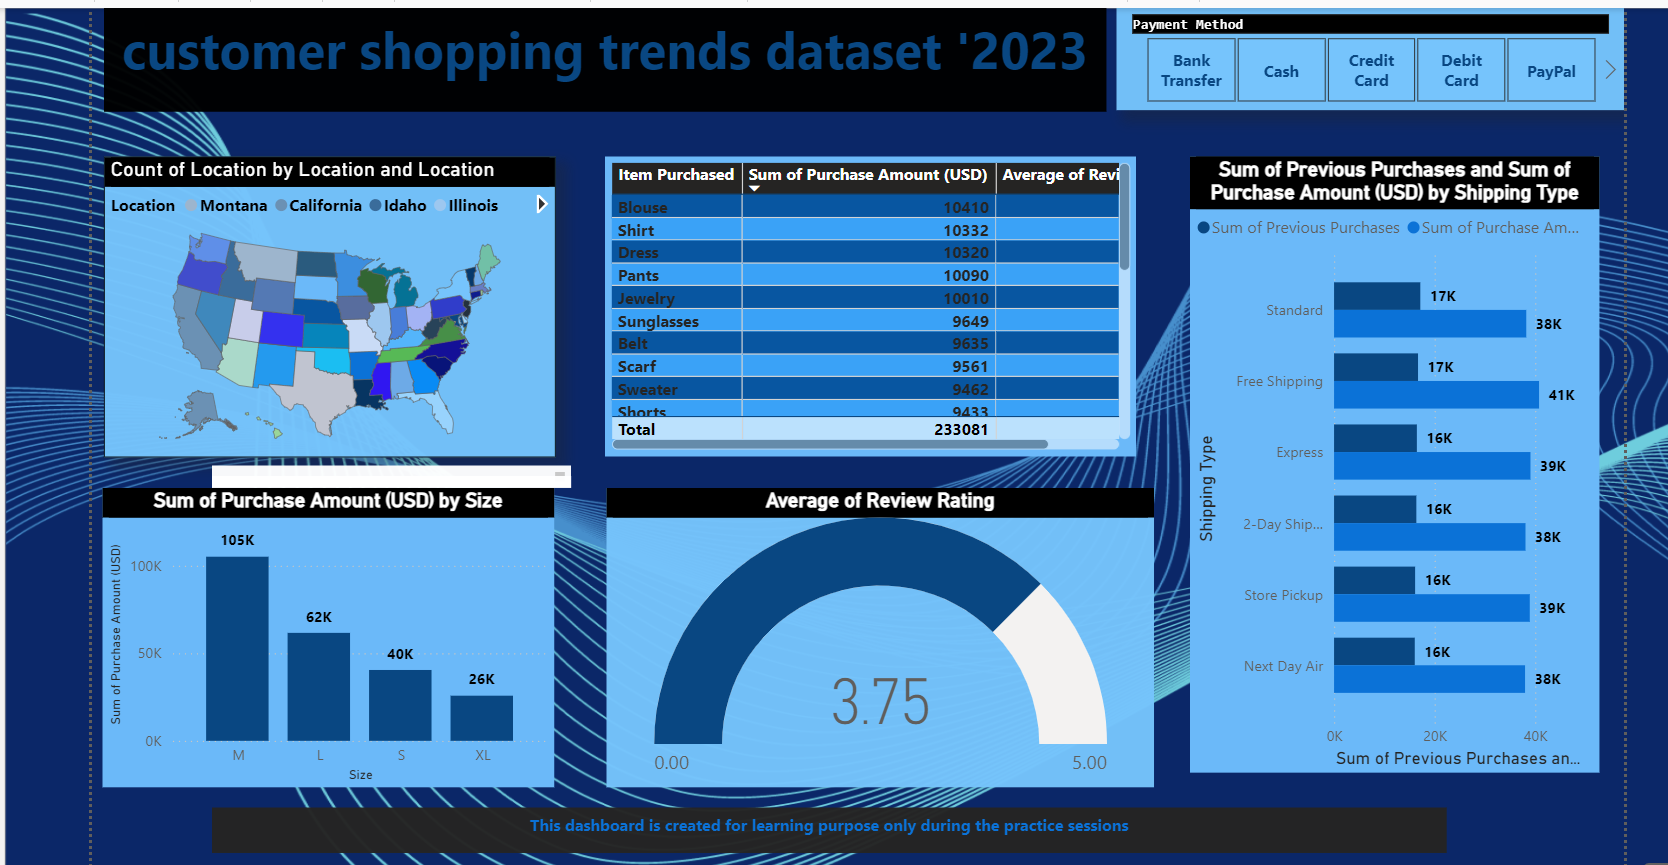

The page's visual inventory and layout, read from the dashboard file:
{"tool":"powerbi","page":{"name":"Page 1","canvas":[1280,720],"ordinal":0},"visuals":[{"type":"textbox","box":[9.1,0,829.8,69.7],"z":0},{"type":"shapeMap","fields":{"Value":["CountNonNull(shopping_trends.Location)"],"Category":["shopping_trends.Location"],"Series":["shopping_trends.Location"]},"box":[9.1,180.2,407.3,239.2],"z":1000},{"type":"gauge","fields":{"Y":["Avg(shopping_trends.Review Rating)"]},"box":[430,431.5,470.9,260.4],"z":2000},{"type":"clusteredColumnChart","fields":{"Category":["shopping_trends.Size"],"Y":["Sum(shopping_trends.Purchase Amount (USD))"]},"box":[9.1,431.5,407.3,260.4],"z":3000},{"type":"tableEx","fields":{"Values":["shopping_trends.Item Purchased","Sum(shopping_trends.Purchase Amount (USD))","Avg(shopping_trends.Review Rating)"]},"box":[445.3,180,472.1,240],"z":4000},{"type":"clusteredBarChart","fields":{"Category":["shopping_trends.Shipping Type"],"Y":["Sum(shopping_trends.Previous Purchases)","Sum(shopping_trends.Purchase Amount (USD))"]},"box":[917.6,180.2,342.2,511.8],"z":5000},{"type":"slicer","fields":{"Values":["shopping_trends.Payment Method"]},"box":[855.5,0,424,69.7],"z":6000},{"type":"textbox","box":[99.9,692,1031.2,27.3],"z":7000},{"type":"card","title":"Total Purchase Amount(USD).","fields":{"Values":["Sum(shopping_trends.Purchase Amount (USD))"]},"box":[1009.1,81.3,251.3,81.3],"z":8000},{"type":"card","title":"Average Review Rating","fields":{"Values":["Avg(shopping_trends.Review Rating)"]},"box":[789.9,81.3,198.4,81.3],"z":9000},{"type":"card","title":"Most Used Payment Method","fields":{"Values":["shopping_trends.Most Used Payment Method"]},"box":[517.8,81.3,247.6,81.3],"z":10000},{"type":"card","title":"Count of Items purchased","fields":{"Values":["CountNonNull(shopping_trends.Item Purchased)"]},"box":[9.4,81.3,221.1,81.3],"z":11000},{"type":"card","title":"top purchased item","fields":{"Values":["shopping_trends.Top Purchased Item"]},"box":[243.8,81.3,262.7,81.3],"z":12000}]}

Visuals, with their boxes on the page's 1280x720 design canvas (x1, y1, x2, y2). These are canvas units, not pixel positions in the 1668x865 screenshot, which may show the page scaled, cropped or inside an application window:
textbox: bbox=[9, 0, 839, 70]
shapeMap - CountNonNull(shopping_trends.Location) x shopping_trends.Location: bbox=[9, 180, 416, 419]
gauge - Avg(shopping_trends.Review Rating): bbox=[430, 432, 901, 692]
clusteredColumnChart - shopping_trends.Size x Sum(shopping_trends.Purchase Amount (USD)): bbox=[9, 432, 416, 692]
tableEx - shopping_trends.Item Purchased x Sum(shopping_trends.Purchase Amount (USD)): bbox=[445, 180, 917, 420]
clusteredBarChart - shopping_trends.Shipping Type x Sum(shopping_trends.Previous Purchases): bbox=[918, 180, 1260, 692]
slicer - shopping_trends.Payment Method: bbox=[856, 0, 1280, 70]
textbox: bbox=[100, 692, 1131, 719]
"Total Purchase Amount(USD)." card: bbox=[1009, 81, 1260, 163]
"Average Review Rating" card: bbox=[790, 81, 988, 163]
"Most Used Payment Method" card: bbox=[518, 81, 765, 163]
"Count of Items purchased" card: bbox=[9, 81, 230, 163]
"top purchased item" card: bbox=[244, 81, 506, 163]
